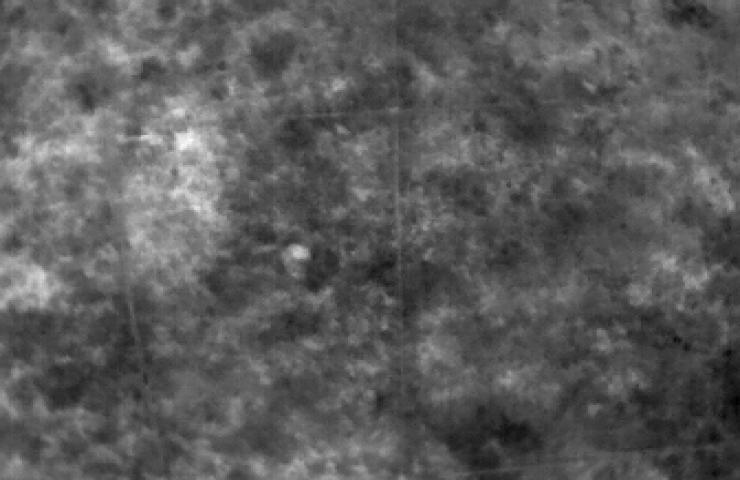landmines: (285, 240, 313, 264)
